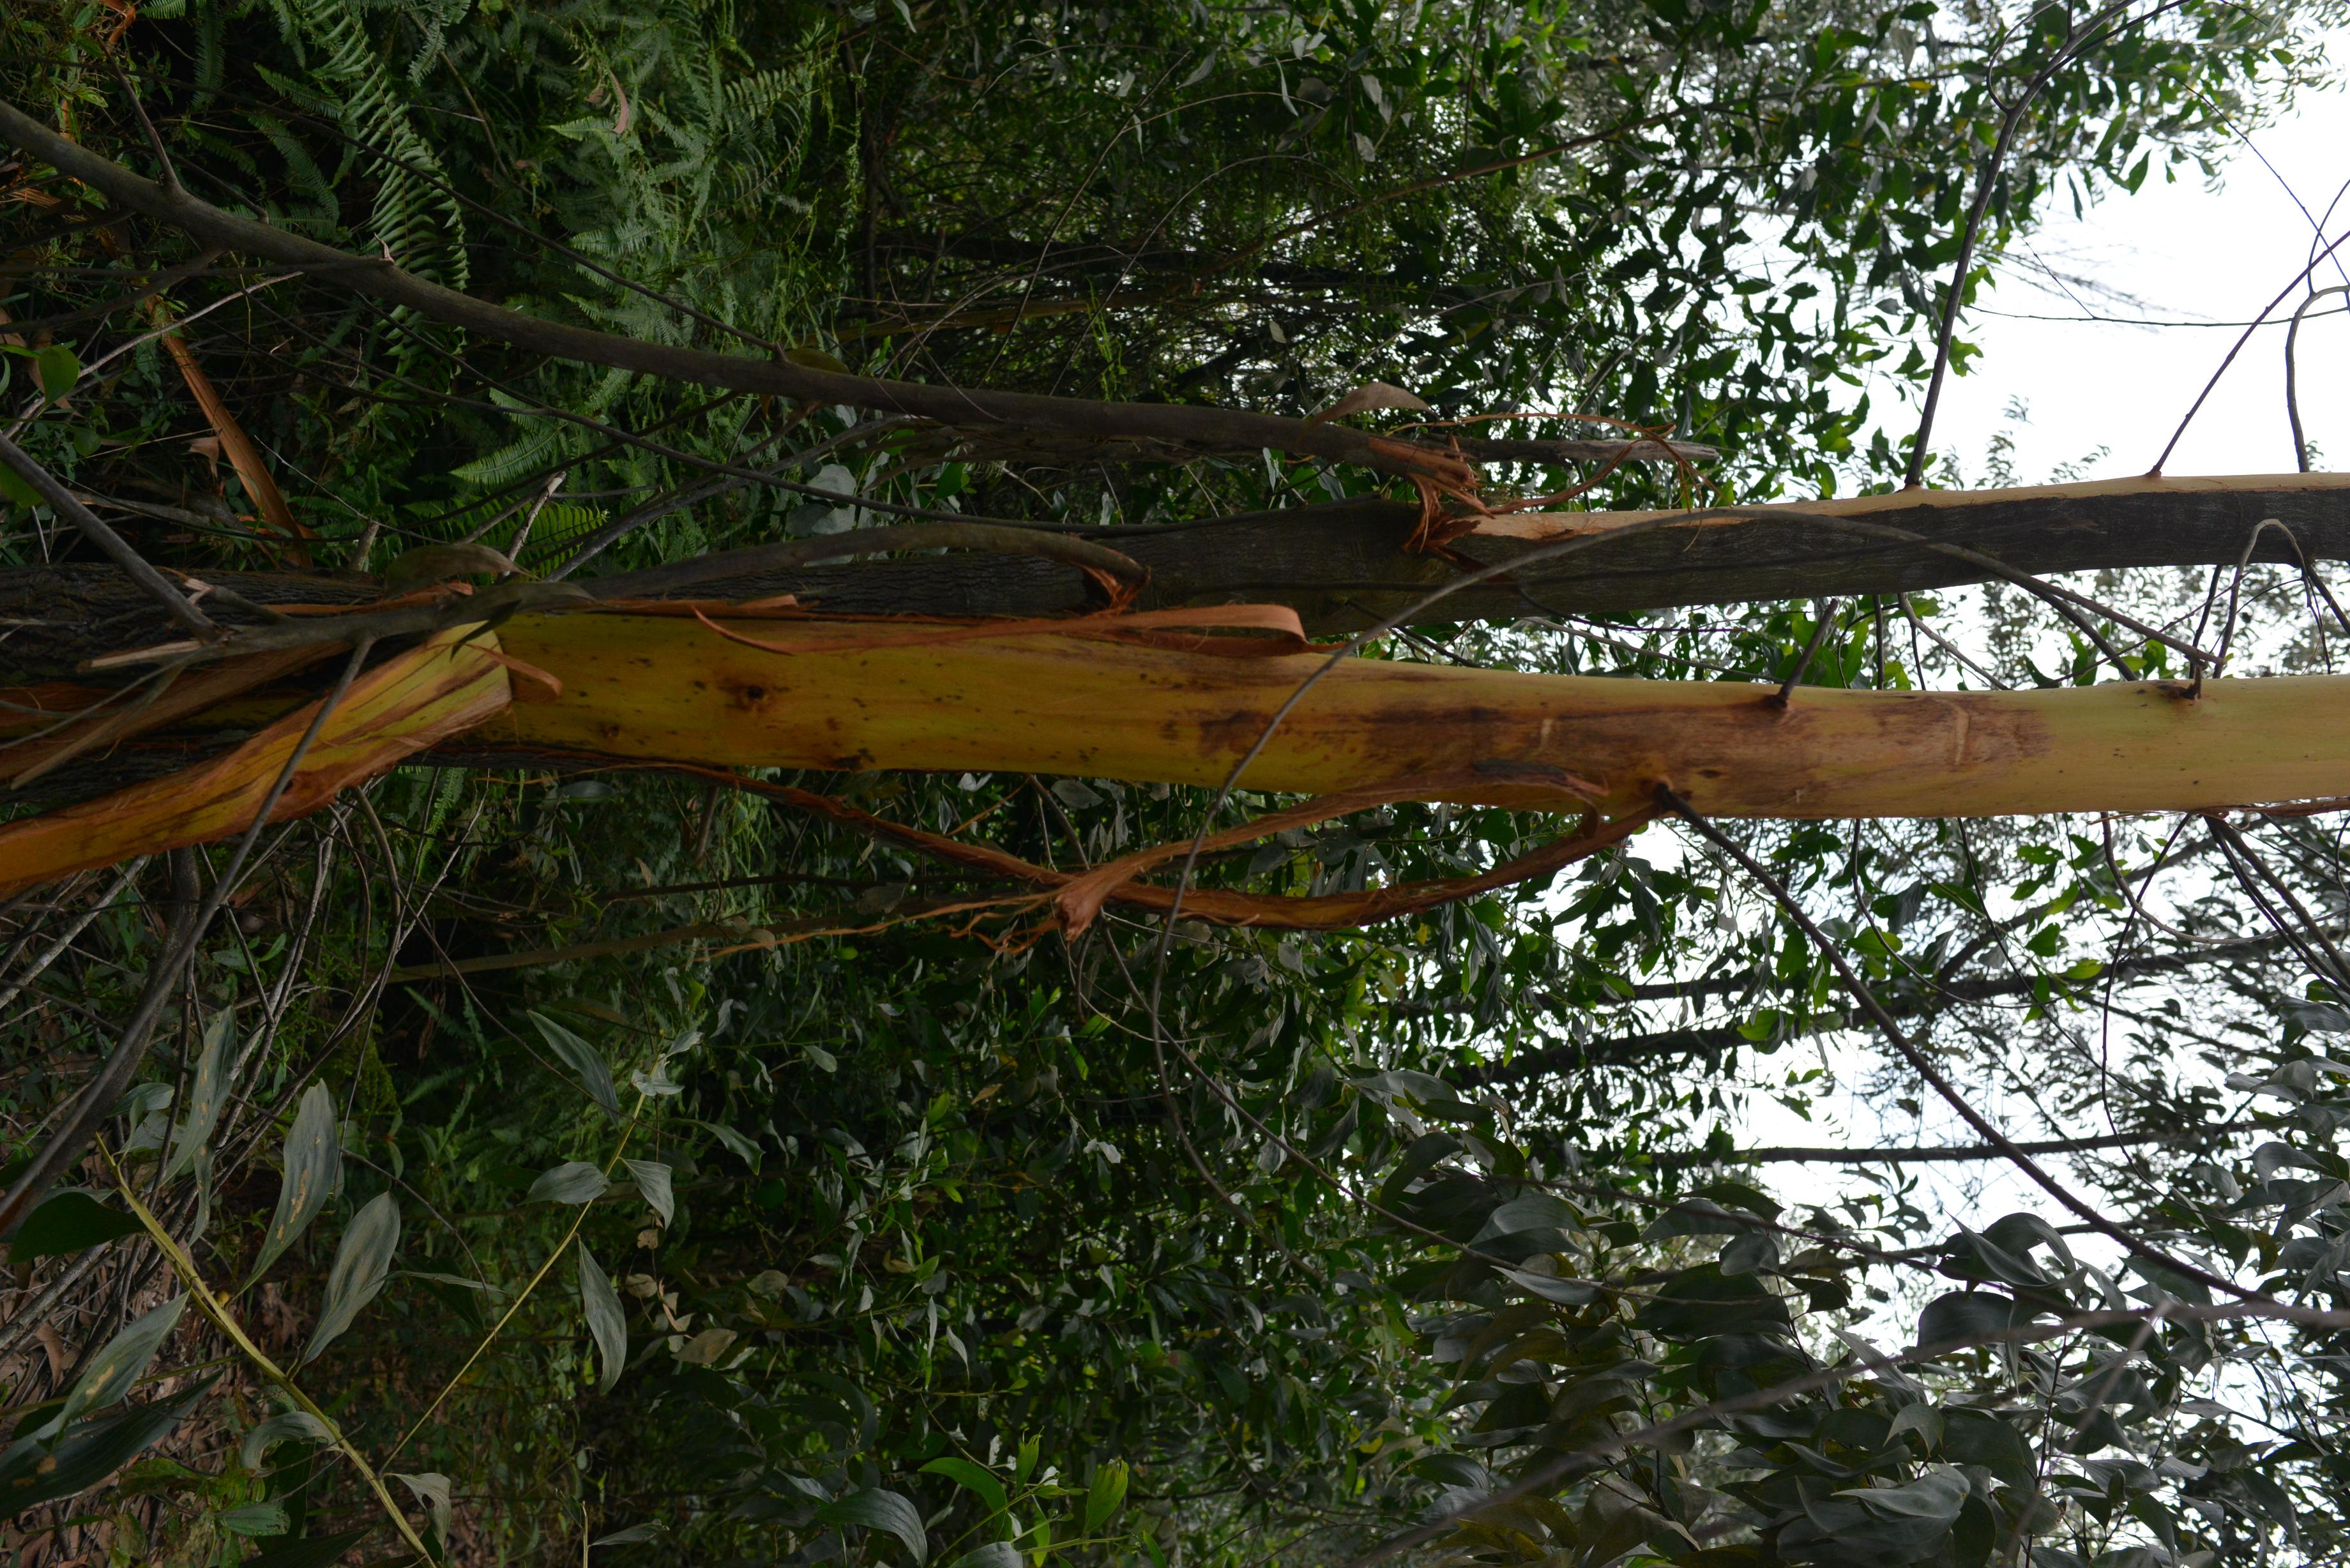Mammals Attack: (527, 597, 2350, 819), (1470, 464, 2350, 546)
